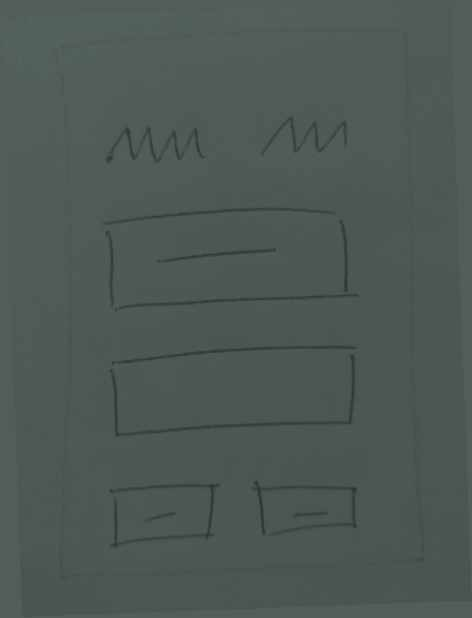button: (87, 199, 375, 326), (244, 468, 368, 546), (99, 476, 225, 551)
switch: (248, 101, 359, 168)
text: (97, 116, 216, 178)
text_input: (94, 336, 373, 450)
